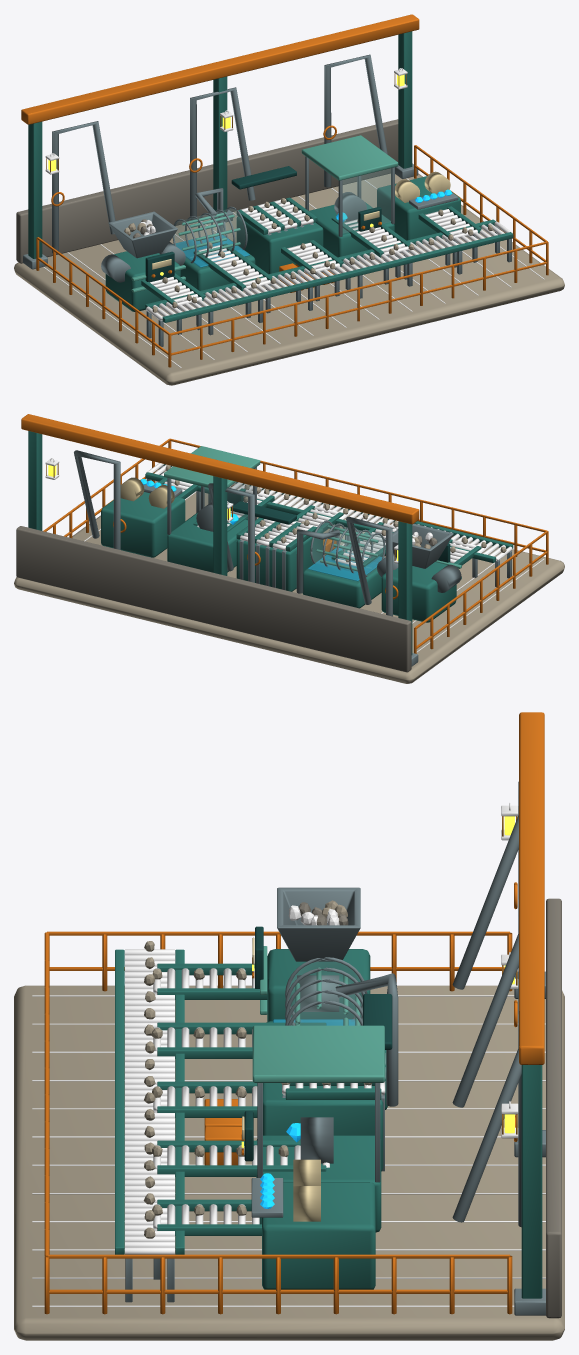
Rendered from Factory.fbx.
The picture shows the model from 3 angles, top to bottom: view 1: azimuth 30°, elevation 25°; view 2: azimuth 150°, elevation 25°; view 3: azimuth 270°, elevation 25°; orthographic projection. The views are drawn at different scales.
Visible parts, largest first — view 1: Factory_Env_StoneLight, Factory_Env_Teal, Factory_Env_Orange, Factory_Env_Steel, Factory_Env_Stone, Factory_Env_Iron, Factory_Env_Glass, Factory_Env_TealLight, Factory_Env_TealDark, Factory_Env_StoneDark, Factory_Env_Paper, Factory_Env_Water; view 2: Factory_Env_Stone, Factory_Env_Teal, Factory_Env_StoneLight, Factory_Env_Orange, Factory_Env_Steel, Factory_Env_Iron, Factory_Env_Glass, Factory_Env_TealLight, Factory_Env_TealDark, Factory_Env_Paper, Factory_Env_Water, Factory_Env_StoneDark; view 3: Factory_Env_StoneLight, Factory_Env_Teal, Factory_Env_Orange, Factory_Env_Steel, Factory_Env_Iron, Factory_Env_TealLight, Factory_Env_Stone, Factory_Env_StoneDark, Factory_Env_Glass, Factory_Env_TealDark, Factory_Env_Paper.
Part boxes in pixels (<box>): Factory_Env_StoneLight: <box>14,173,564,385</box>; Factory_Env_Teal: <box>28,31,513,322</box>; Factory_Env_Orange: <box>21,14,548,367</box>; Factory_Env_Steel: <box>23,54,511,346</box>; Factory_Env_Stone: <box>16,119,398,263</box>; Factory_Env_Iron: <box>45,68,512,320</box>; Factory_Env_Glass: <box>173,168,391,261</box>; Factory_Env_TealLight: <box>131,135,398,292</box>; Factory_Env_TealDark: <box>145,166,381,282</box>; Factory_Env_StoneDark: <box>43,178,544,367</box>; Factory_Env_Paper: <box>152,171,450,269</box>; Factory_Env_Water: <box>173,235,249,267</box>; Factory_Env_Stone: <box>16,526,437,672</box>; Factory_Env_Teal: <box>28,431,513,654</box>; Factory_Env_StoneLight: <box>14,465,564,683</box>; Factory_Env_Orange: <box>21,414,548,653</box>; Factory_Env_Steel: <box>74,450,511,666</box>; Factory_Env_Iron: <box>45,458,512,566</box>; Factory_Env_Glass: <box>204,482,384,575</box>; Factory_Env_TealLight: <box>164,446,461,579</box>; Factory_Env_TealDark: <box>227,492,450,562</box>; Factory_Env_Paper: <box>120,477,174,508</box>; Factory_Env_Water: <box>308,547,384,581</box>; Factory_Env_StoneDark: <box>84,491,544,652</box>; Factory_Env_StoneLight: <box>14,900,564,1340</box>; Factory_Env_Teal: <box>115,949,542,1298</box>; Factory_Env_Orange: <box>44,712,544,1314</box>; Factory_Env_Steel: <box>125,781,545,1315</box>; Factory_Env_Iron: <box>125,803,518,1254</box>; Factory_Env_TealLight: <box>252,946,384,1082</box>; Factory_Env_Stone: <box>299,898,561,1318</box>; Factory_Env_StoneDark: <box>32,905,545,1306</box>; Factory_Env_Glass: <box>289,960,362,1025</box>; Factory_Env_TealDark: <box>244,926,392,1161</box>; Factory_Env_Paper: <box>242,937,320,1221</box>.
Size of the model in its own units: 11 by 4.43 by 7.5.
